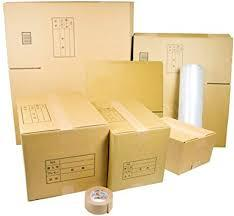cardboard: (3, 1, 132, 144), (130, 32, 231, 148), (14, 92, 109, 202), (93, 98, 168, 191), (83, 60, 162, 127), (158, 115, 214, 174)
